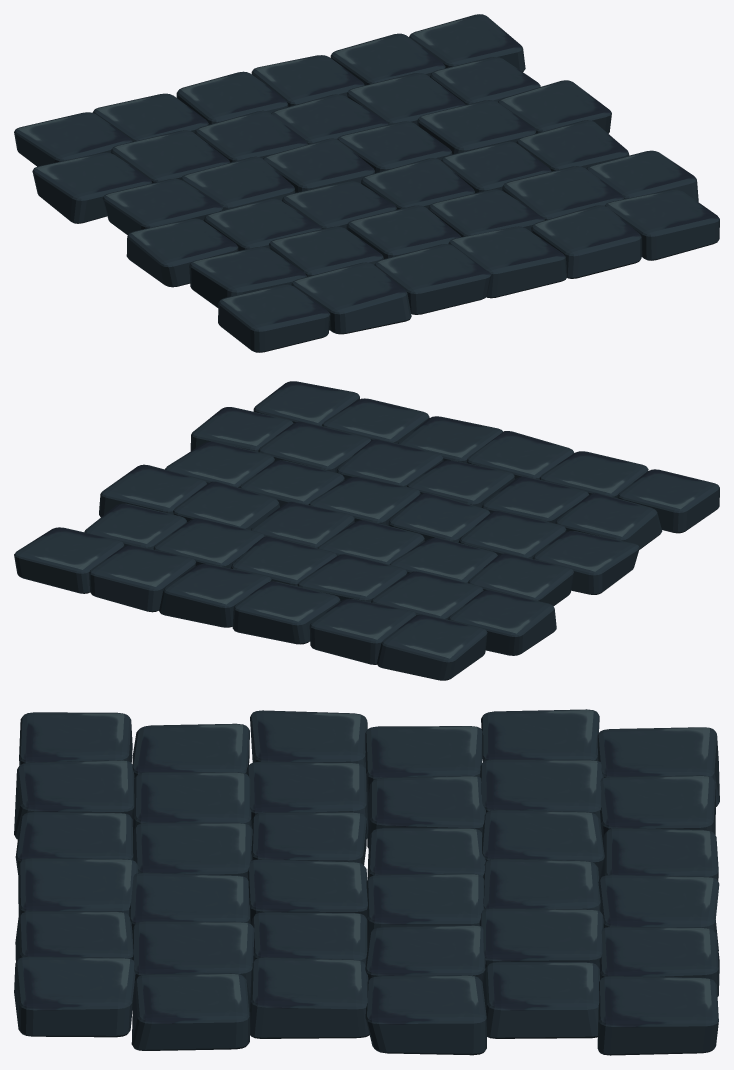
The model's file is Pave Prison.obj.
3 views of the same model, one above another, from view 1: azimuth 30°, elevation 25°; view 2: azimuth 150°, elevation 25°; view 3: azimuth 270°, elevation 25° (orthographic). The views are drawn at different scales.
Parts seen in each view (by area): view 1: pavé; view 2: pavé; view 3: pavé.
Boxes of the visible parts, box(x1,y1,x2,y2) form: pavé: box(14, 14, 719, 352); pavé: box(14, 381, 719, 680); pavé: box(14, 709, 719, 1055).
Size of the model in its own units: 3.84 by 0.2168 by 3.63.
Materials: 1 (1 with a texture image).
